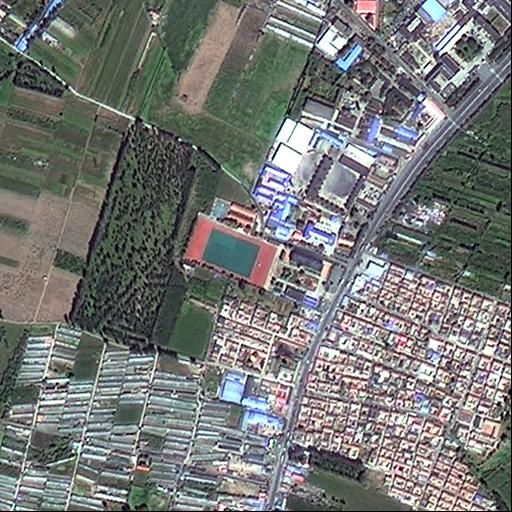school: (181, 195, 344, 315)
